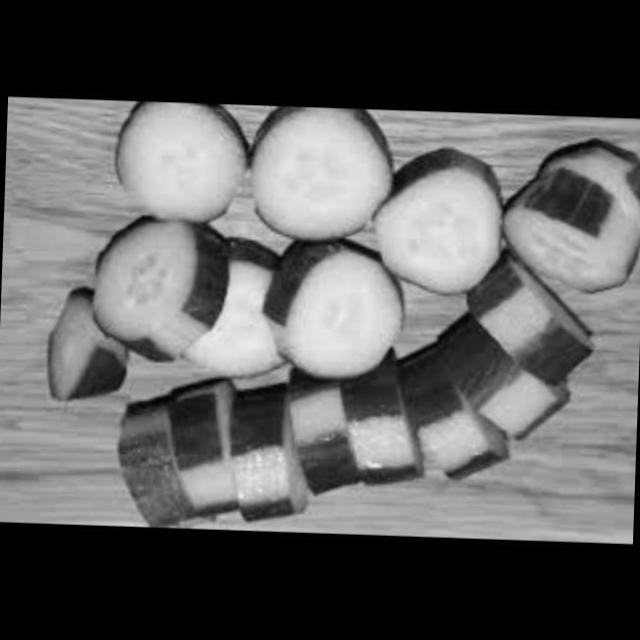cucumber: (279, 369, 494, 512), (126, 379, 308, 534), (438, 274, 594, 438), (78, 208, 233, 372), (499, 140, 640, 307), (372, 148, 508, 318), (248, 105, 396, 252), (264, 240, 408, 388), (166, 240, 297, 392), (116, 100, 256, 238), (36, 286, 138, 412)
